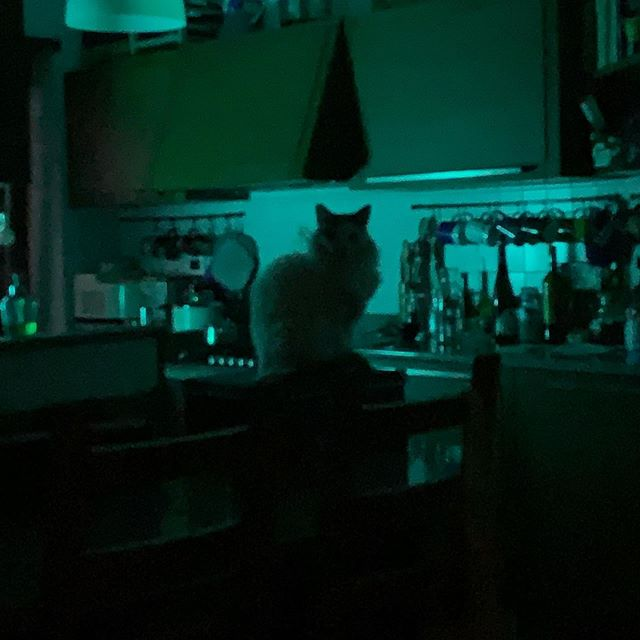animal: (233, 200, 385, 387)
